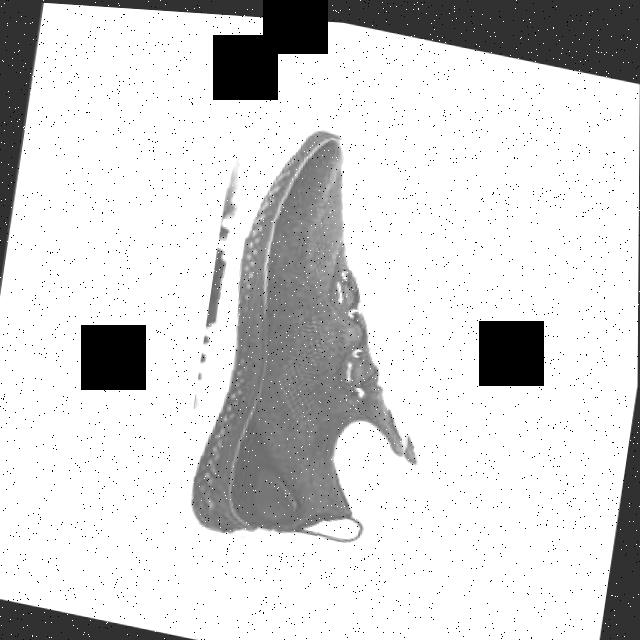shoe: (176, 104, 464, 571)
